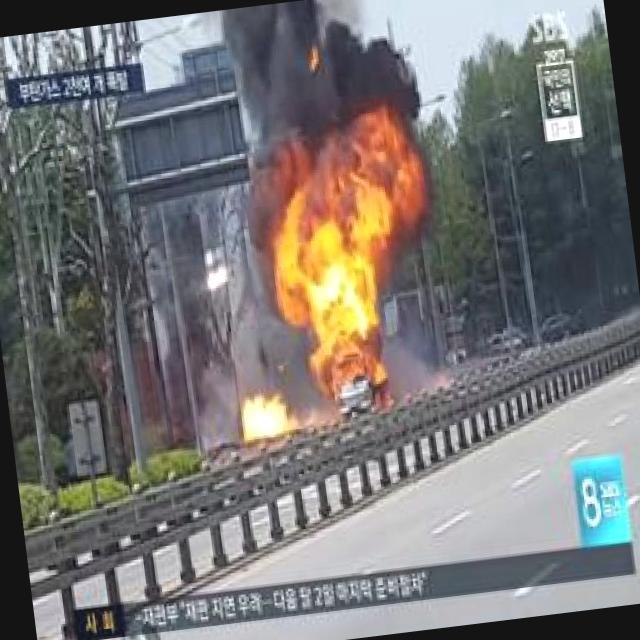Fire: (271, 167, 406, 420), (237, 396, 289, 441)
